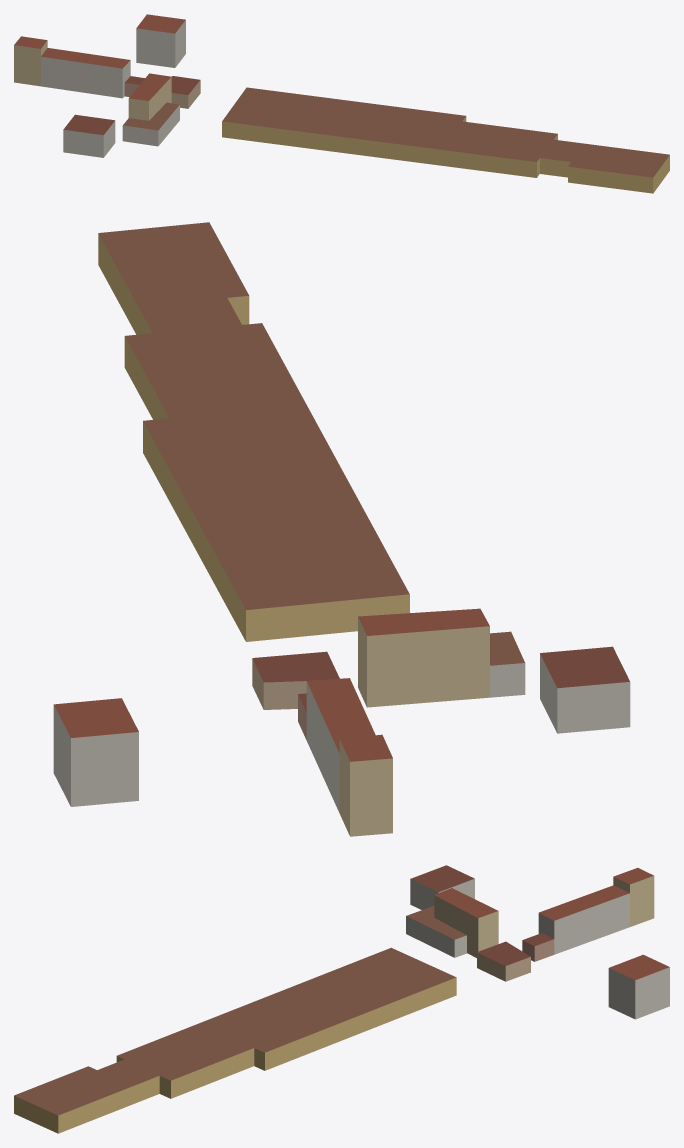
The model's file is SM_Fondale_Citta_E_01.fbx.
3 renders of one model, top to bottom at view 1: azimuth 30°, elevation 25°; view 2: azimuth 150°, elevation 25°; view 3: azimuth 270°, elevation 25°, orthographic. The views are drawn at different scales.
Parts seen in each view (by area): view 1: SM_Fondale_Citta_E_01; view 2: SM_Fondale_Citta_E_01; view 3: SM_Fondale_Citta_E_01.
Part boxes in pixels (x1,y1,x2,y2): SM_Fondale_Citta_E_01: [14, 14, 669, 193]; SM_Fondale_Citta_E_01: [53, 222, 630, 836]; SM_Fondale_Citta_E_01: [14, 865, 669, 1133].
Size of the model in its own units: 18222 by 20818 by 1993.
